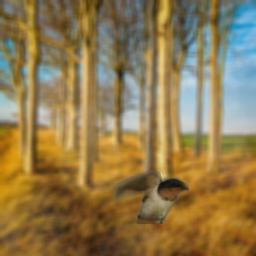Swallow: (112, 170, 189, 224)
